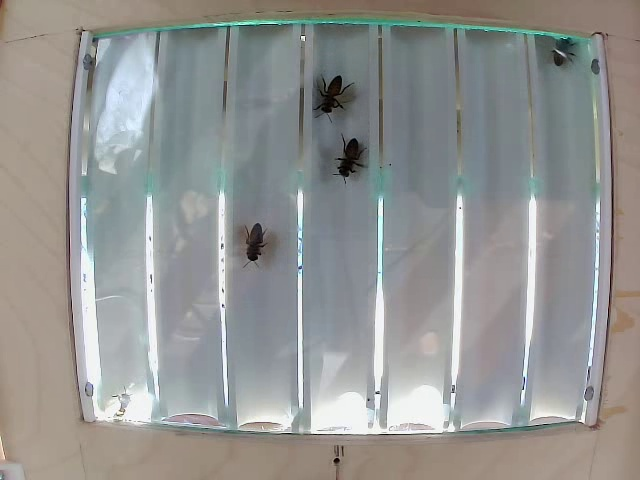bee: (239, 221, 296, 277), (316, 71, 351, 128), (334, 142, 367, 182)
